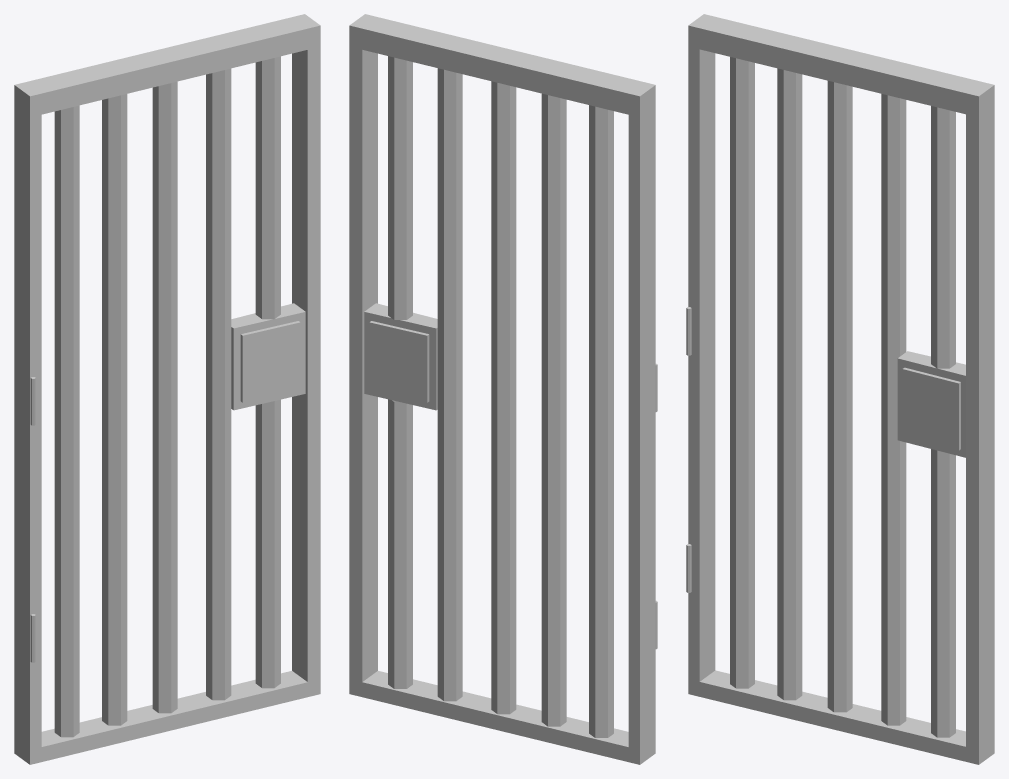
File: P_Jail_Door.fbx
The picture shows the model from 3 angles, left to right: view 1: azimuth 30°, elevation 25°; view 2: azimuth 150°, elevation 25°; view 3: azimuth 330°, elevation 25°; orthographic projection.
Parts seen in each view (by area): view 1: P_Jail_Door; view 2: P_Jail_Door; view 3: P_Jail_Door.
Boxes of the visible parts, x1,y1,x2,y2 form: P_Jail_Door: (14, 14, 320, 764); P_Jail_Door: (349, 14, 657, 764); P_Jail_Door: (686, 14, 994, 764).
Size of the model in its own units: 618 by 67.47 by 1359.
